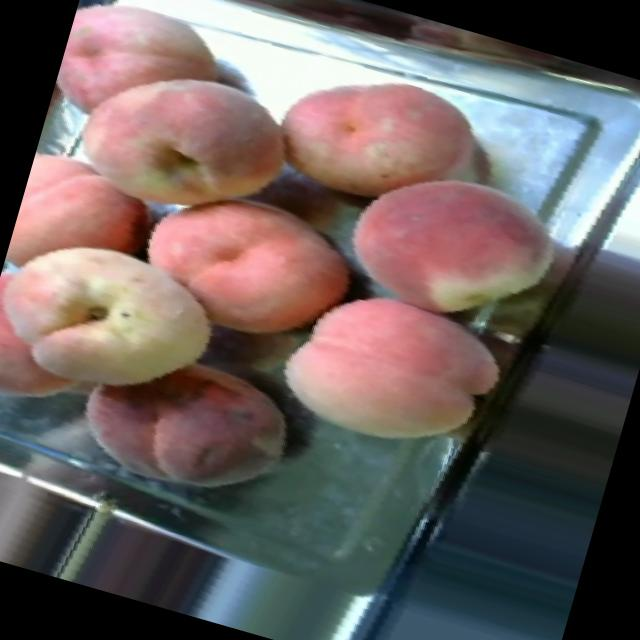Fruit: (26, 11, 332, 262), (0, 203, 244, 462), (110, 150, 385, 374), (53, 314, 320, 536), (323, 130, 591, 347), (255, 269, 522, 485), (249, 38, 499, 240)
